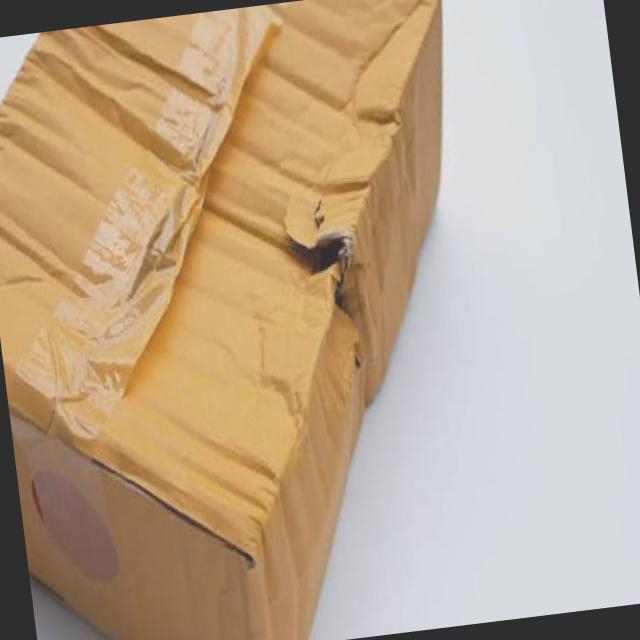carton_box: (0, 0, 527, 640)
package_damage: (248, 166, 430, 422)
